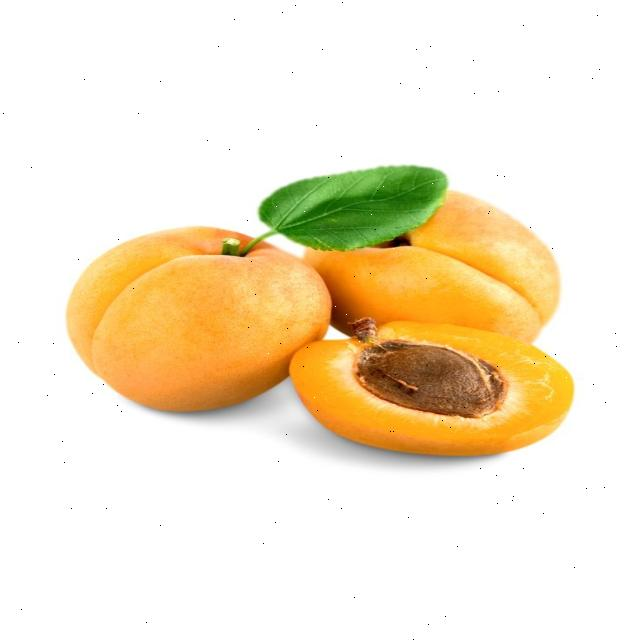kayisi: (67, 225, 334, 416), (290, 318, 575, 458), (315, 190, 565, 343)
kayisicekirdegi: (358, 346, 493, 414)
kayisiyapragi: (256, 166, 451, 253)
